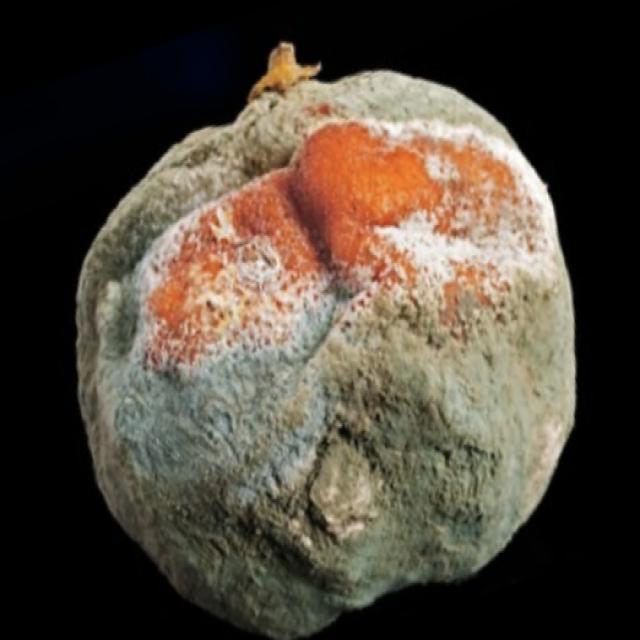sangat-busuk: (77, 44, 574, 639)
